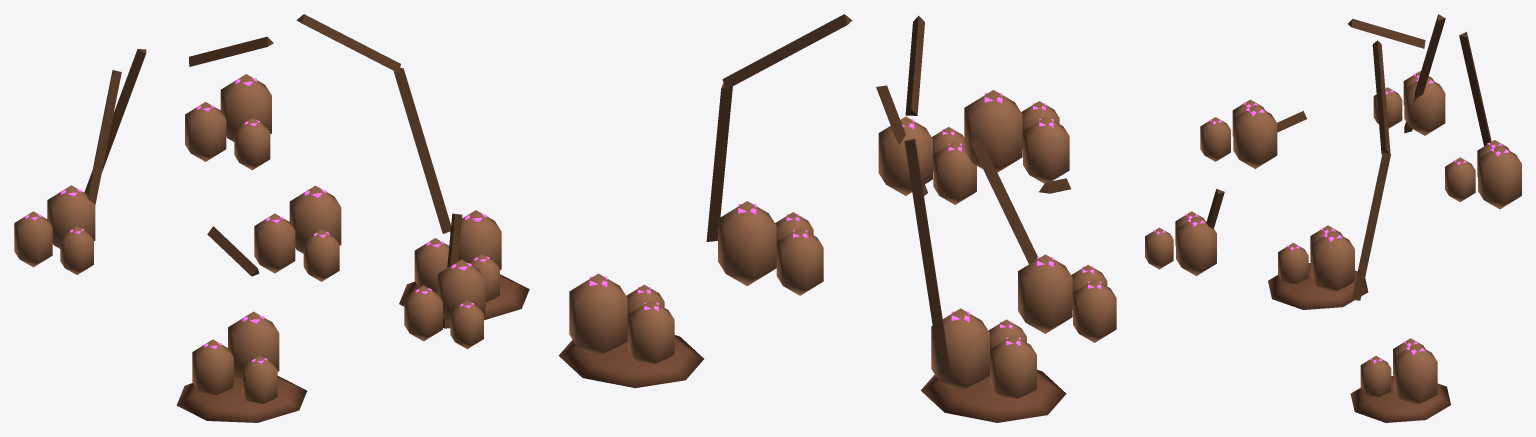
Rendered from overworld-settlement-eggs-middle-eastern-city.glb.
3 renders of one model, left to right at view 1: azimuth 30°, elevation 25°; view 2: azimuth 150°, elevation 25°; view 3: azimuth 270°, elevation 25°, orthographic. The views are drawn at different scales.
Visible parts, largest first — view 1: settlement_eggs; view 2: settlement_eggs; view 3: settlement_eggs.
Part boxes in pixels (box(x1,y1,x2,y2)): settlement_eggs: box(14, 14, 529, 422); settlement_eggs: box(558, 14, 1116, 422); settlement_eggs: box(1145, 14, 1521, 422).
Bounding box in the file's own units: 0.5548 × 0.361 × 0.4299.
